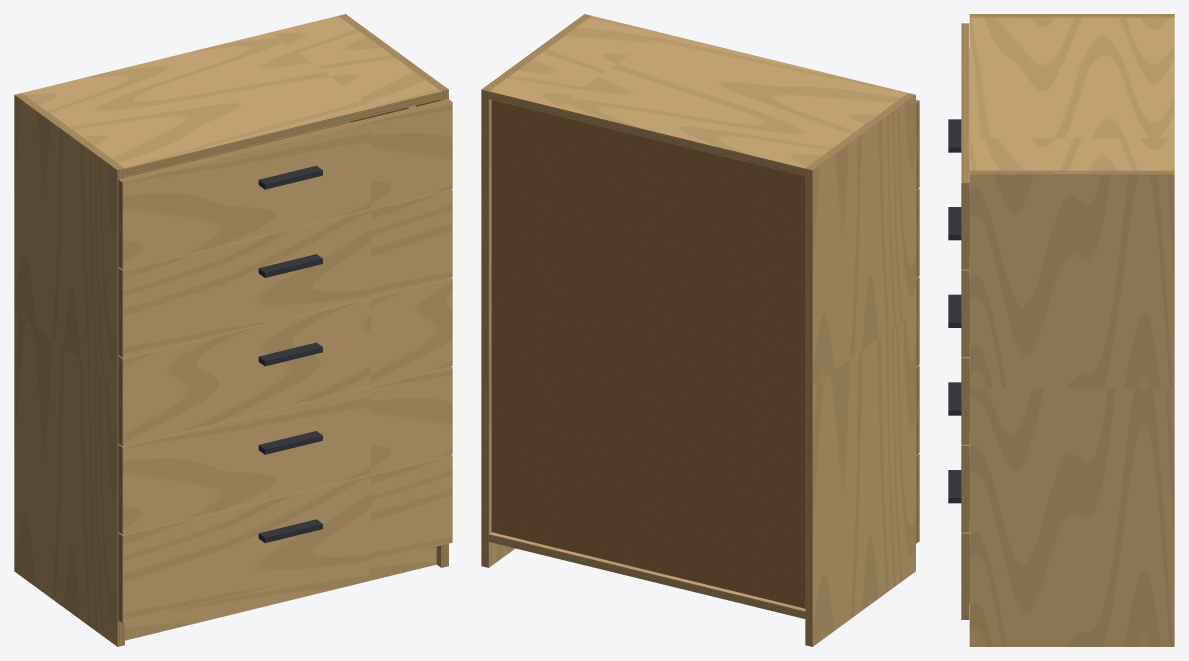
The model's file is HIN-CHT-tall.glb.
3 renders of one model, left to right at view 1: azimuth 30°, elevation 25°; view 2: azimuth 150°, elevation 25°; view 3: azimuth 270°, elevation 25°, orthographic.
Parts seen in each view (by area): view 1: side-l:sheet:eyJtIjoicGx5Iiwic2lkZSI6ImZhY2UiLCJzZWVkIjoxLCJ, top:sheet:eyJtIjoicGx5Iiwic2lkZSI6ImZhY2UiLCJzZWVkIjo2LCJ2ZW, d2-front:sheet:eyJtIjoicGx5Iiwic2lkZSI6ImZhY2UiLCJzZWVkIjo2L, d4-front:sheet:eyJtIjoicGx5Iiwic2lkZSI6ImZhY2UiLCJzZWVkIjoyL, d1-front:sheet:eyJtIjoicGx5Iiwic2lkZSI6ImZhY2UiLCJzZWVkIjoyL, d3-front:sheet:eyJtIjoicGx5Iiwic2lkZSI6ImZhY2UiLCJzZWVkIjowL, d5-front:sheet:eyJtIjoicGx5Iiwic2lkZSI6ImZhY2UiLCJzZWVkIjo2L, plinth:sheet:eyJtIjoicGx5Iiwic2lkZSI6ImZhY2UiLCJzZWVkIjozLCJ, pull, top:sheet:eyJtIjoicGx5Iiwic2lkZSI6ImVkZ2UtbG9uZyIsInNlZWQiOj, d5-front:sheet:eyJtIjoicGx5Iiwic2lkZSI6ImVkZ2UtbG9uZyIsInNlZ, side-l:sheet:eyJtIjoicGx5Iiwic2lkZSI6ImVkZ2UtbG9uZyIsInNlZWQ (+6 smaller); view 2: back:sheet:eyJtIjoibWRmIiwic2lkZSI6ImZhY2UiLCJzZWVkIjo0LCJ0a, side-l:sheet:eyJtIjoicGx5Iiwic2lkZSI6ImZhY2UiLCJzZWVkIjoxLCJ, top:sheet:eyJtIjoicGx5Iiwic2lkZSI6ImZhY2UiLCJzZWVkIjo2LCJ2ZW, side-r:sheet:eyJtIjoicGx5Iiwic2lkZSI6ImVkZ2UtbG9uZyIsInNlZWQ, side-l:sheet:eyJtIjoicGx5Iiwic2lkZSI6ImVkZ2UtbG9uZyIsInNlZWQ, top:sheet:eyJtIjoicGx5Iiwic2lkZSI6ImVkZ2UtbG9uZyIsInNlZWQiOj, bottom:sheet:eyJtIjoicGx5Iiwic2lkZSI6ImVkZ2UtbG9uZyIsInNlZWQ, side-r:sheet:eyJtIjoicGx5Iiwic2lkZSI6ImZhY2UiLCJzZWVkIjozLCJ, bottom:sheet:eyJtIjoicGx5Iiwic2lkZSI6ImZhY2UiLCJzZWVkIjowLCJ, side-r:sheet:eyJtIjoicGx5Iiwic2lkZSI6ImVkZ2UtZW5kIiwic2VlZCI, side-l:sheet:eyJtIjoicGx5Iiwic2lkZSI6ImVkZ2UtZW5kIiwic2VlZCI; view 3: side-r:sheet:eyJtIjoicGx5Iiwic2lkZSI6ImZhY2UiLCJzZWVkIjozLCJ, top:sheet:eyJtIjoicGx5Iiwic2lkZSI6ImZhY2UiLCJzZWVkIjo2LCJ2ZW, pull, d5-front:sheet:eyJtIjoicGx5Iiwic2lkZSI6ImVkZ2UtbG9uZyIsInNlZ, side-r:sheet:eyJtIjoicGx5Iiwic2lkZSI6ImVkZ2UtZW5kIiwic2VlZCI, side-l:sheet:eyJtIjoicGx5Iiwic2lkZSI6ImVkZ2UtZW5kIiwic2VlZCI, d3-front:sheet:eyJtIjoicGx5Iiwic2lkZSI6ImVkZ2UtZW5kIiwic2VlZ, d1-front:sheet:eyJtIjoicGx5Iiwic2lkZSI6ImVkZ2UtZW5kIiwic2VlZ, d2-front:sheet:eyJtIjoicGx5Iiwic2lkZSI6ImVkZ2UtZW5kIiwic2VlZ, d4-front:sheet:eyJtIjoicGx5Iiwic2lkZSI6ImVkZ2UtZW5kIiwic2VlZ, d5-front:sheet:eyJtIjoicGx5Iiwic2lkZSI6ImVkZ2UtZW5kIiwic2VlZ.
Part boxes in pixels (left/top/right/bottom): side-l:sheet:eyJtIjoicGx5Iiwic2lkZSI6ImZhY2UiLCJzZWVkIjoxLCJ: left=14, top=95, right=117, bottom=646; top:sheet:eyJtIjoicGx5Iiwic2lkZSI6ImZhY2UiLCJzZWVkIjo2LCJ2ZW: left=22, top=16, right=440, bottom=168; d2-front:sheet:eyJtIjoicGx5Iiwic2lkZSI6ImZhY2UiLCJzZWVkIjo2L: left=122, top=367, right=452, bottom=534; d4-front:sheet:eyJtIjoicGx5Iiwic2lkZSI6ImZhY2UiLCJzZWVkIjoyL: left=122, top=190, right=452, bottom=357; d1-front:sheet:eyJtIjoicGx5Iiwic2lkZSI6ImZhY2UiLCJzZWVkIjoyL: left=122, top=455, right=452, bottom=622; d3-front:sheet:eyJtIjoicGx5Iiwic2lkZSI6ImZhY2UiLCJzZWVkIjowL: left=122, top=279, right=452, bottom=446; d5-front:sheet:eyJtIjoicGx5Iiwic2lkZSI6ImZhY2UiLCJzZWVkIjo2L: left=122, top=102, right=452, bottom=269; plinth:sheet:eyJtIjoicGx5Iiwic2lkZSI6ImZhY2UiLCJzZWVkIjozLCJ: left=125, top=546, right=436, bottom=640; pull: left=258, top=165, right=322, bottom=543; top:sheet:eyJtIjoicGx5Iiwic2lkZSI6ImVkZ2UtbG9uZyIsInNlZWQiOj: left=125, top=91, right=441, bottom=176; d5-front:sheet:eyJtIjoicGx5Iiwic2lkZSI6ImVkZ2UtbG9uZyIsInNlZ: left=118, top=99, right=451, bottom=182; side-l:sheet:eyJtIjoicGx5Iiwic2lkZSI6ImVkZ2UtbG9uZyIsInNlZWQ: left=117, top=168, right=124, bottom=646; back:sheet:eyJtIjoibWRmIiwic2lkZSI6ImZhY2UiLCJzZWVkIjo0LCJ0a: left=491, top=100, right=805, bottom=608; side-l:sheet:eyJtIjoicGx5Iiwic2lkZSI6ImZhY2UiLCJzZWVkIjoxLCJ: left=812, top=95, right=915, bottom=646; top:sheet:eyJtIjoicGx5Iiwic2lkZSI6ImZhY2UiLCJzZWVkIjo2LCJ2ZW: left=489, top=16, right=907, bottom=168; side-r:sheet:eyJtIjoicGx5Iiwic2lkZSI6ImVkZ2UtbG9uZyIsInNlZWQ: left=481, top=89, right=488, bottom=567; side-l:sheet:eyJtIjoicGx5Iiwic2lkZSI6ImVkZ2UtbG9uZyIsInNlZWQ: left=805, top=168, right=812, bottom=646; top:sheet:eyJtIjoicGx5Iiwic2lkZSI6ImVkZ2UtbG9uZyIsInNlZWQiOj: left=489, top=91, right=805, bottom=176; bottom:sheet:eyJtIjoicGx5Iiwic2lkZSI6ImVkZ2UtbG9uZyIsInNlZWQ: left=489, top=534, right=805, bottom=618; side-r:sheet:eyJtIjoicGx5Iiwic2lkZSI6ImZhY2UiLCJzZWVkIjozLCJ: left=489, top=99, right=514, bottom=567; bottom:sheet:eyJtIjoicGx5Iiwic2lkZSI6ImZhY2UiLCJzZWVkIjowLCJ: left=489, top=532, right=805, bottom=611; side-r:sheet:eyJtIjoicGx5Iiwic2lkZSI6ImVkZ2UtZW5kIiwic2VlZCI: left=481, top=14, right=591, bottom=91; side-l:sheet:eyJtIjoicGx5Iiwic2lkZSI6ImVkZ2UtZW5kIiwic2VlZCI: left=805, top=93, right=915, bottom=170; side-r:sheet:eyJtIjoicGx5Iiwic2lkZSI6ImZhY2UiLCJzZWVkIjozLCJ: left=969, top=174, right=1174, bottom=646; top:sheet:eyJtIjoicGx5Iiwic2lkZSI6ImZhY2UiLCJzZWVkIjo2LCJ2ZW: left=969, top=17, right=1174, bottom=170; pull: left=948, top=119, right=961, bottom=503; d5-front:sheet:eyJtIjoicGx5Iiwic2lkZSI6ImVkZ2UtbG9uZyIsInNlZ: left=961, top=23, right=969, bottom=182; side-r:sheet:eyJtIjoicGx5Iiwic2lkZSI6ImVkZ2UtZW5kIiwic2VlZCI: left=969, top=170, right=1174, bottom=174; side-l:sheet:eyJtIjoicGx5Iiwic2lkZSI6ImVkZ2UtZW5kIiwic2VlZCI: left=969, top=14, right=1174, bottom=17; d3-front:sheet:eyJtIjoicGx5Iiwic2lkZSI6ImVkZ2UtZW5kIiwic2VlZ: left=961, top=358, right=969, bottom=444; d1-front:sheet:eyJtIjoicGx5Iiwic2lkZSI6ImVkZ2UtZW5kIiwic2VlZ: left=961, top=533, right=969, bottom=619; d2-front:sheet:eyJtIjoicGx5Iiwic2lkZSI6ImVkZ2UtZW5kIiwic2VlZ: left=961, top=446, right=969, bottom=532; d4-front:sheet:eyJtIjoicGx5Iiwic2lkZSI6ImVkZ2UtZW5kIiwic2VlZ: left=961, top=270, right=969, bottom=356; d5-front:sheet:eyJtIjoicGx5Iiwic2lkZSI6ImVkZ2UtZW5kIiwic2VlZ: left=961, top=183, right=969, bottom=269.
Bounding box in the file's own units: 0.8 × 1.1 × 0.4769.
Materials: 109 (108 with a texture image).
